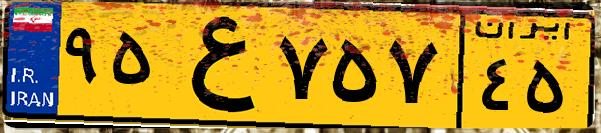4: (475, 38, 525, 113)
5: (330, 28, 385, 110), (525, 38, 570, 115), (110, 28, 158, 98)
7: (270, 28, 330, 110), (385, 28, 445, 110)
9: (57, 26, 110, 100)
ع: (158, 12, 270, 120)
